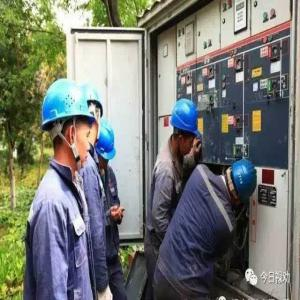blue: (42, 77, 91, 168), (226, 156, 258, 209), (172, 100, 199, 156), (82, 85, 103, 144), (94, 122, 116, 173)
